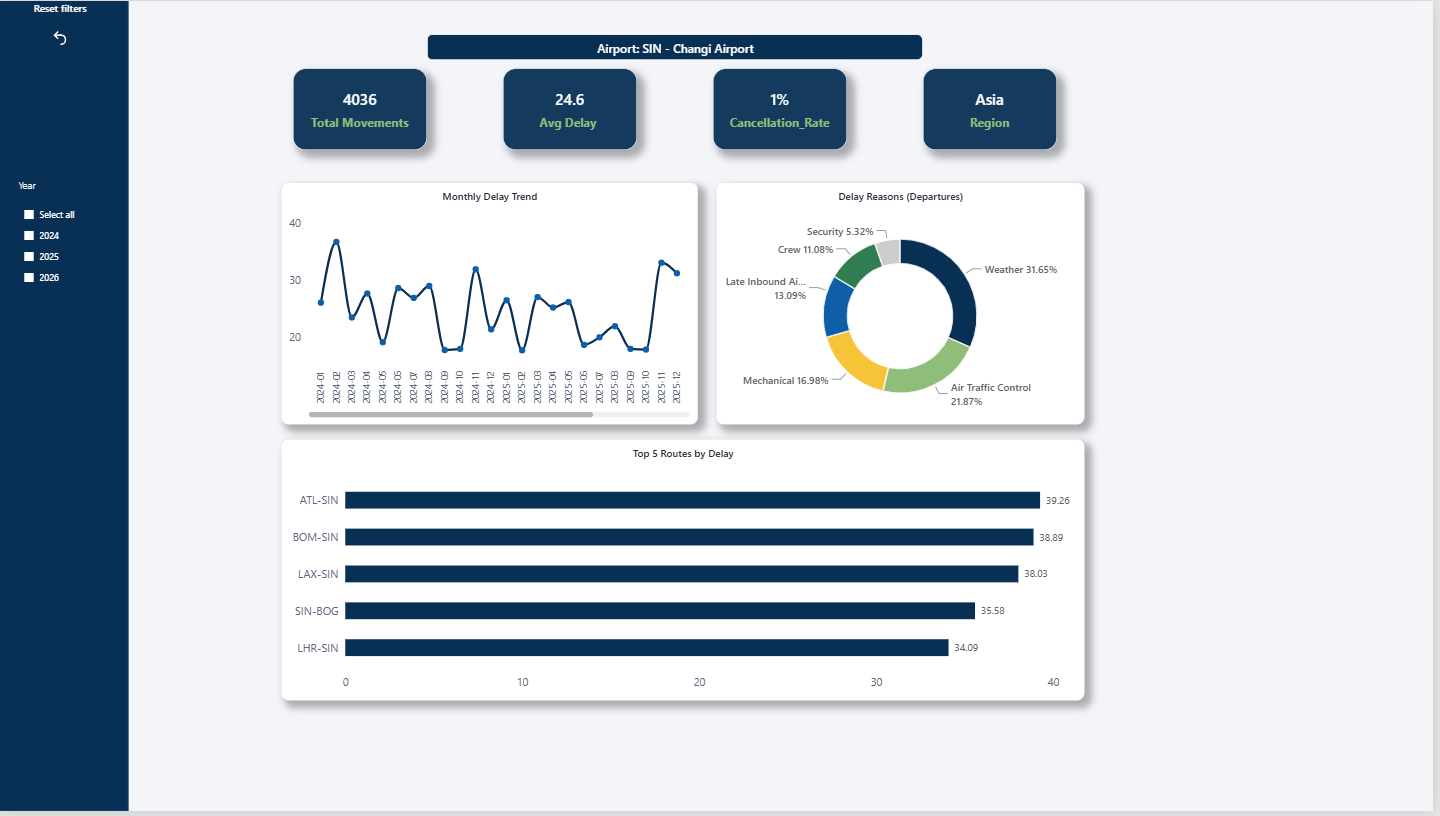

Layout of this report page (visuals, bound fields, positions):
{"tool":"powerbi","page":{"name":"Airport Detail","canvas":[1920,1080],"ordinal":5},"visuals":[{"type":"cardVisual","fields":{"Data":["Measure Table.Airport Title"]},"box":[577.7,44.6,662.9,35.7],"z":0},{"type":"card","fields":{"Values":["Measure Table.Total Movements"]},"box":[399.1,90.3,178.6,108.6],"z":1000},{"type":"card","fields":{"Values":["Measure Table.Avg Delay (Origin+Dest)"]},"box":[679.6,90.3,178.6,108.6],"z":2000},{"type":"card","fields":{"Values":["Measure Table.Cancelation_Rate_Pct"]},"box":[960.1,90.3,178.6,108.6],"z":3000},{"type":"card","fields":{"Values":["Min(airports.region)"]},"box":[1240.6,90.3,178.6,108.6],"z":4000},{"type":"lineChart","title":"Monthly Delay Trend","fields":{"Category":["flights.YearMonth"],"Y":["Measure Table.Avg Delay (Origin+Dest)"]},"box":[383.4,241.7,555.7,322.9],"z":5000},{"type":"donutChart","title":"Delay Reasons (Departures)","fields":{"Category":["flights.delay_reason"],"Series":["flights.delay_reason"],"Y":["Measure Table.Total Flights"]},"box":[963.4,241.7,491.4,322.9],"z":6000},{"type":"barChart","title":"Top 5 Routes by Delay","fields":{"Category":["flights.Route Name"],"Y":["Measure Table.Avg Delay (Origin+Dest)"]},"box":[383.4,583.1,1071.4,348.6],"z":7000},{"type":"shape","box":[1.7,0,178.6,1080],"z":8000},{"type":"slicer","title":"Year","fields":{"Values":["flights.Year"]},"box":[33.3,235,115.7,200],"z":9000},{"type":"actionButton","title":"Reset filters","box":[2,0,175,65],"z":10000}]}

Visuals, with their boxes in screenshot pixels (x1, y1, x2, y2), scaled from the page's 1920x1080 canvas onto the 1440x816 screenshot:
cardVisual - Measure Table.Airport Title: 433,34,930,61
card - Measure Table.Total Movements: 299,68,433,150
card - Measure Table.Avg Delay (Origin+Dest): 510,68,644,150
card - Measure Table.Cancelation_Rate_Pct: 720,68,854,150
card - Min(airports.region): 930,68,1064,150
"Monthly Delay Trend" lineChart: 288,183,704,427
"Delay Reasons (Departures)" donutChart: 723,183,1091,427
"Top 5 Routes by Delay" barChart: 288,441,1091,704
shape: 1,0,135,815
"Year" slicer: 25,178,112,329
"Reset filters" actionButton: 2,0,133,49
